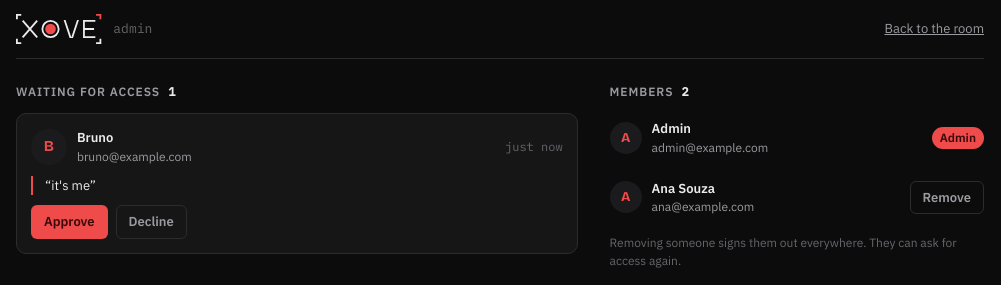
Test: admin page › declines a request
Click the button "Decline": [151, 222] box [116,205,187,238]
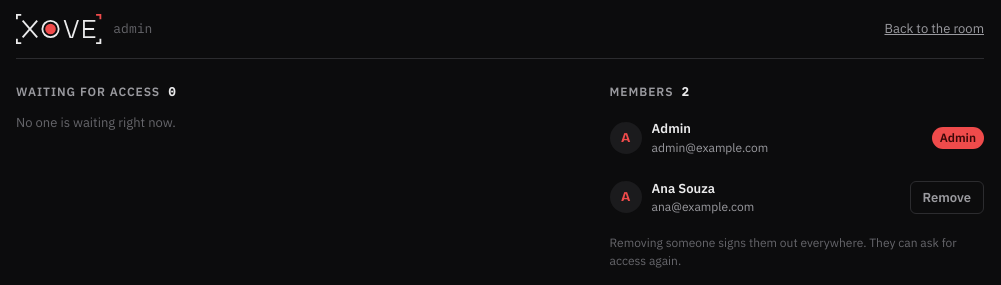
expect the text "No one is waiting right now." is shown: met, box [16,114,176,131]
